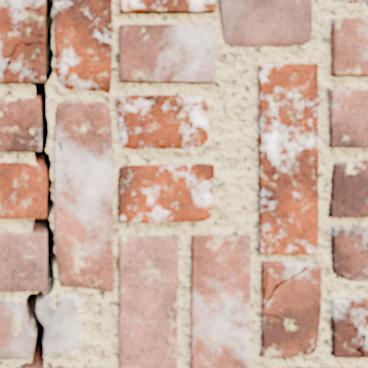brick: (258, 64, 317, 254), (55, 102, 112, 290), (191, 235, 249, 367), (119, 237, 177, 367), (262, 262, 320, 357), (118, 164, 213, 221), (119, 25, 214, 81), (54, 0, 111, 92), (117, 95, 207, 149), (220, 0, 311, 46), (0, 0, 44, 82), (0, 233, 46, 291), (0, 163, 45, 217), (329, 90, 367, 146), (0, 98, 40, 150), (332, 298, 367, 357), (330, 161, 367, 216), (331, 19, 367, 74), (331, 227, 367, 280), (120, 0, 215, 11), (340, 0, 367, 2)
broken_brick: (37, 297, 78, 356), (0, 301, 33, 359)
crack: (1, 0, 56, 367), (262, 266, 308, 307), (344, 315, 366, 357), (346, 243, 367, 258), (54, 136, 63, 151)
